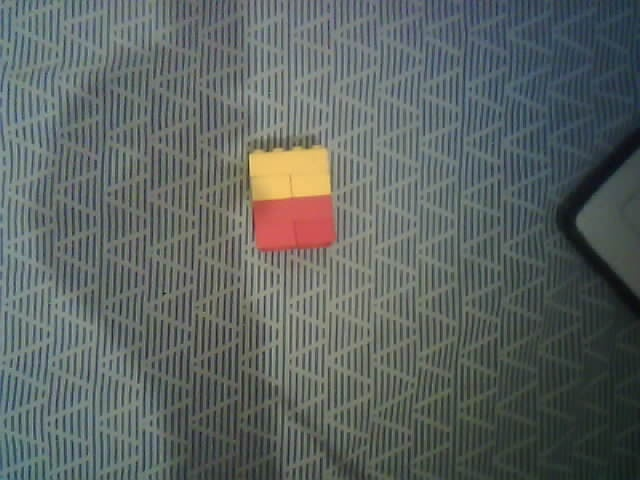lego: (245, 145, 338, 252)
